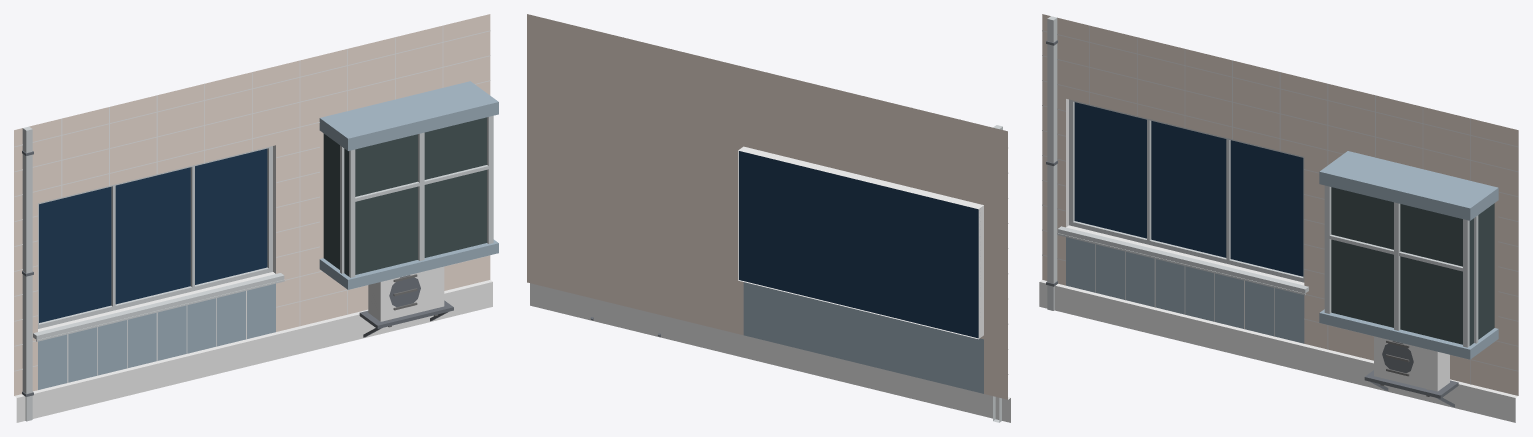
File: mid-w1_close.fbx
The picture shows the model from 3 angles, left to right: view 1: azimuth 30°, elevation 25°; view 2: azimuth 150°, elevation 25°; view 3: azimuth 330°, elevation 25°; orthographic projection.
Parts seen in each view (by area): view 1: a2011/300/mid-w1_close; view 2: a2011/300/mid-w1_close; view 3: a2011/300/mid-w1_close.
Part boxes in pixels (x1=…): a2011/300/mid-w1_close: x1=14, y1=14, x2=498, y2=422; a2011/300/mid-w1_close: x1=527, y1=14, x2=1010, y2=422; a2011/300/mid-w1_close: x1=1039, y1=14, x2=1518, y2=422.
Size of the model in its own units: 6 by 3.5 by 0.74.
